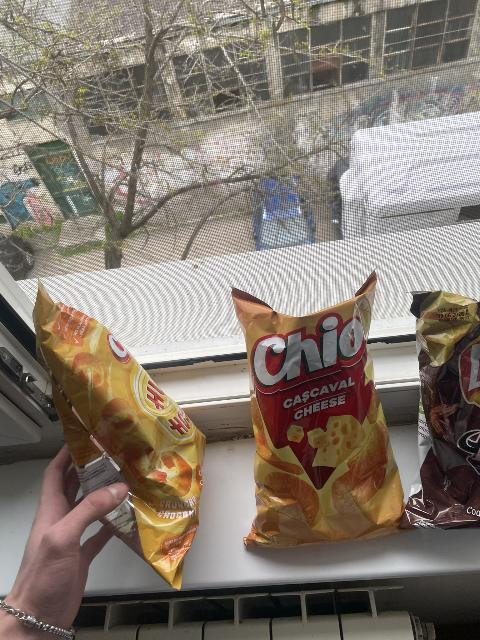Chio Cascaval 125g: (230, 285, 389, 551)
Chio Hula Hoops Cheese 70g: (31, 290, 214, 583)
Lays Beef Grilled Ribs 125g: (402, 295, 480, 532)
